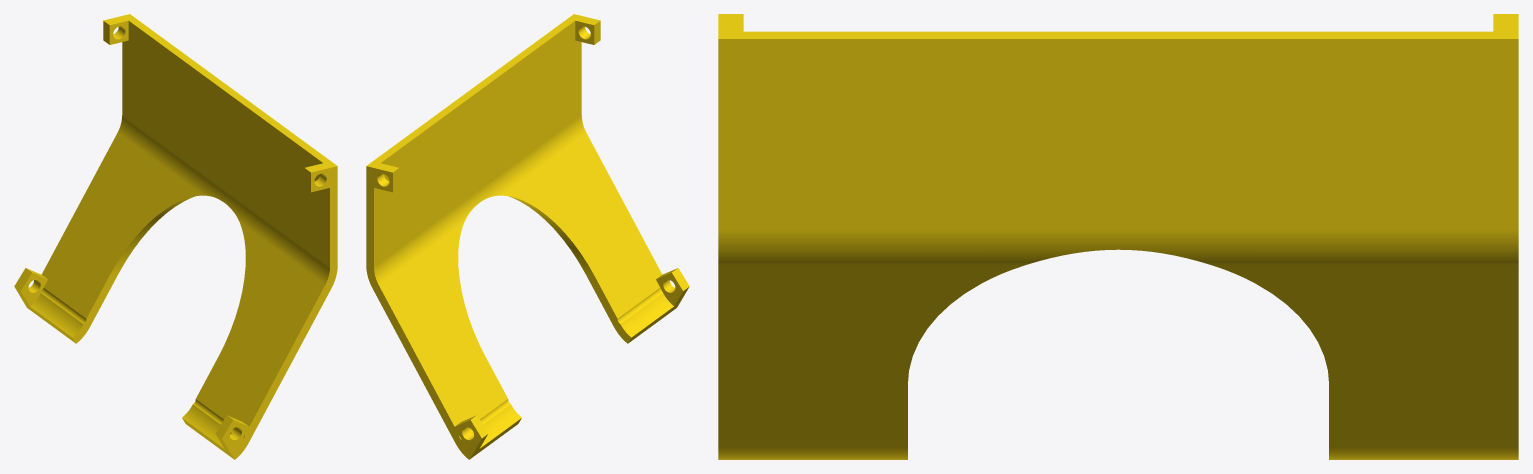
Rendered from A26_W112_cover.gltf.
3 renders of one model, left to right at view 1: azimuth 30°, elevation 25°; view 2: azimuth 150°, elevation 25°; view 3: azimuth 270°, elevation 25°, orthographic. The views are drawn at different scales.
Parts seen in each view (by area): view 1: mesh5512, mesh5531, mesh5543, mesh5519, mesh5547, mesh5515, mesh5529, mesh5540, mesh5521, mesh5526, mesh5536, mesh5527; view 2: mesh5512, mesh5543, mesh5531, mesh5519, mesh5535, mesh5515, mesh5540, mesh5529, mesh5521, mesh5538, mesh5548, mesh5539; view 3: mesh5518, mesh5522, mesh5523, mesh5520, mesh5515, mesh5524, mesh5525.
Boxes of the visible parts, x1,y1,x2,y2 form: mesh5512: (122,21,329,266); mesh5531: (41,133,202,318); mesh5543: (196,223,324,426); mesh5519: (117,115,329,284); mesh5547: (222,166,337,459); mesh5515: (103,14,337,172); mesh5529: (30,293,83,337); mesh5540: (182,405,231,448); mesh5521: (109,196,194,276); mesh5526: (72,274,117,343); mesh5536: (21,272,47,305); mesh5527: (41,288,86,323); mesh5512: (374,21,581,266); mesh5543: (501,133,662,318); mesh5531: (379,223,507,426); mesh5519: (374,115,586,284); mesh5535: (366,166,481,459); mesh5515: (366,14,600,172); mesh5540: (620,293,673,337); mesh5529: (472,405,521,448); mesh5521: (509,196,594,276); mesh5538: (586,274,631,343); mesh5548: (656,272,682,305); mesh5539: (617,288,662,323); mesh5518: (718,39,1518,229); mesh5522: (1212,265,1518,447); mesh5523: (718,265,1024,447); mesh5520: (718,229,1518,265); mesh5515: (718,14,1518,38); mesh5524: (1329,447,1518,459); mesh5525: (718,447,907,459).
Bounding box in the file's own units: 0.0388 × 0.0861 × 0.1207.
